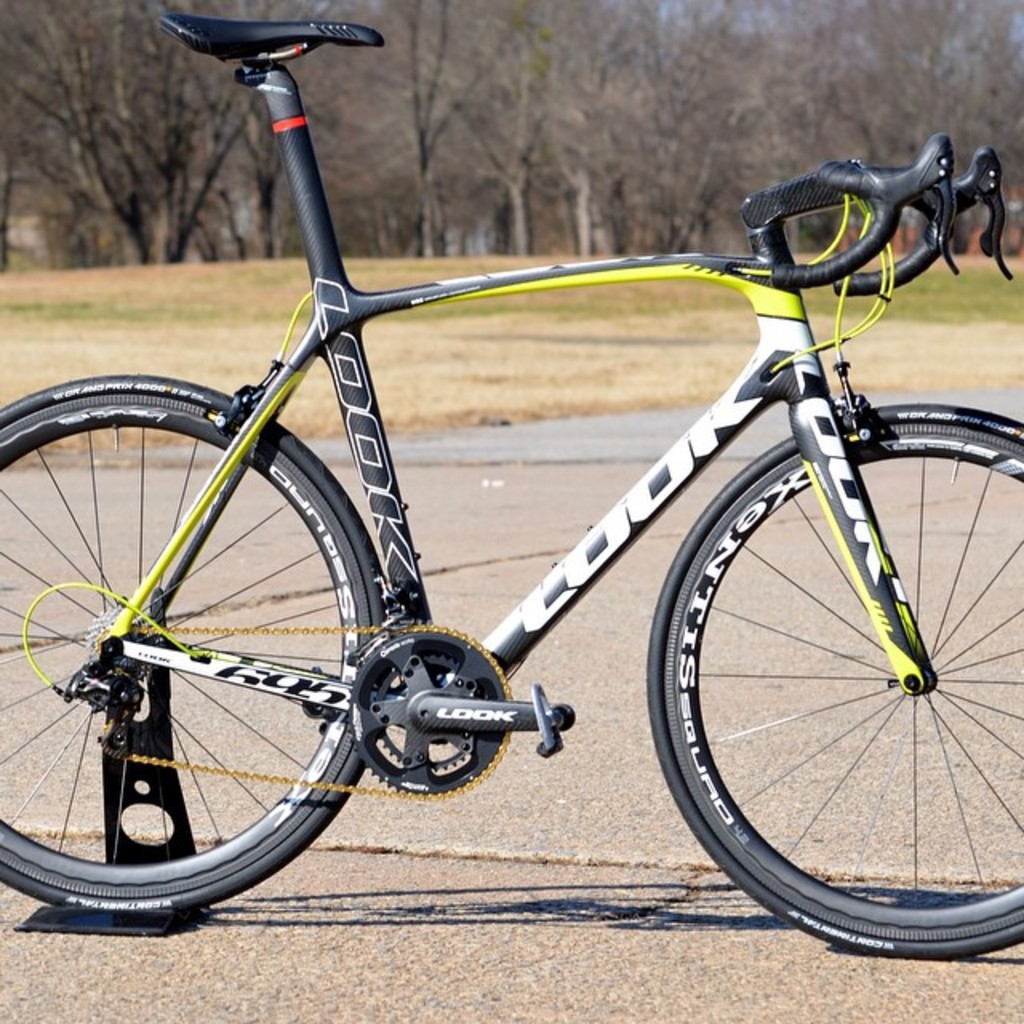Bike: (159, 222, 1016, 879)
